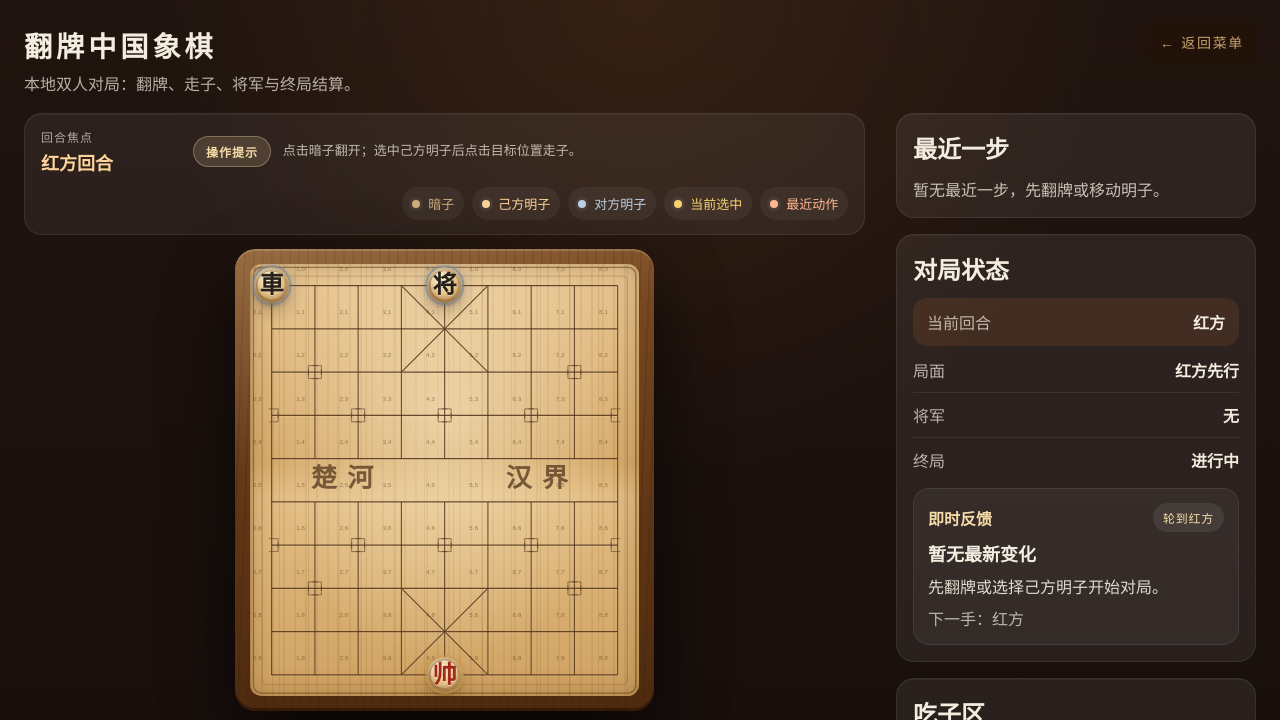
Test: interaction feedback › shows guidance when clicking an opponent piece without a selected piece
Click the button with test id "cell-0-0". click: (272,285)
box: [250,264,293,307]
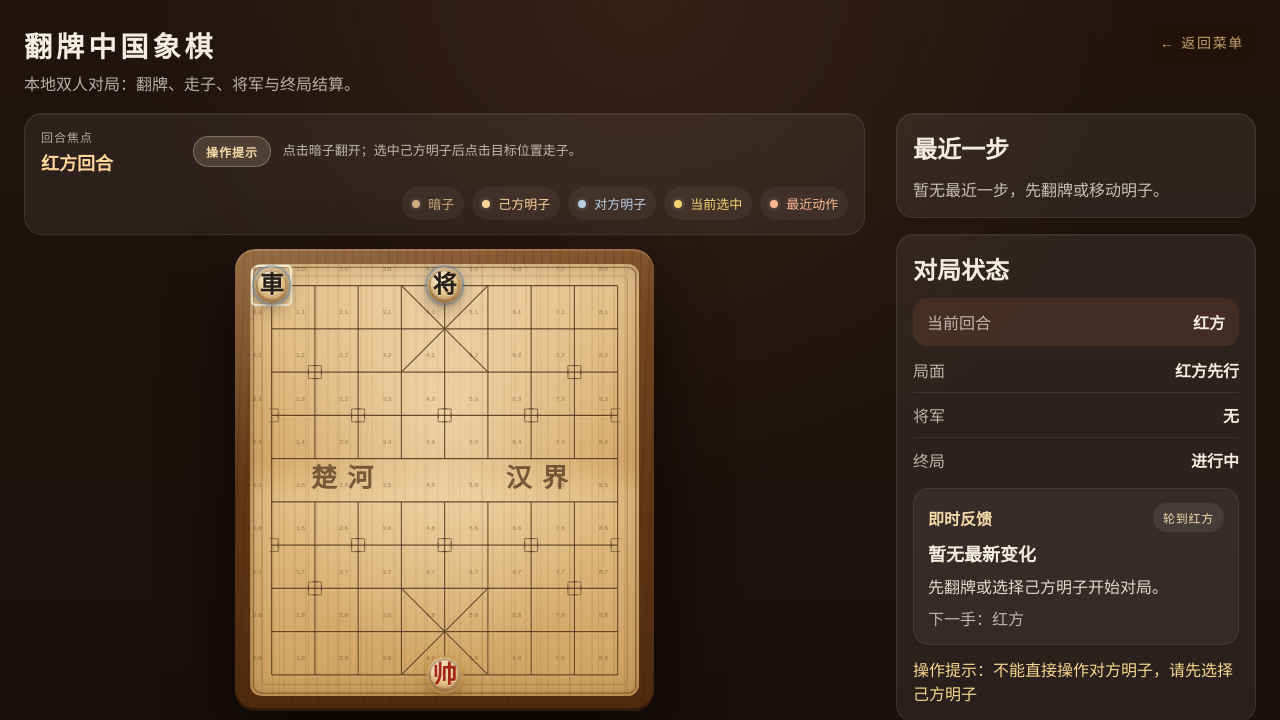
Expected: the text "操作提示：不能直接操作对方明子，请先选择己方明子" is shown, [913,657,1239,705]
